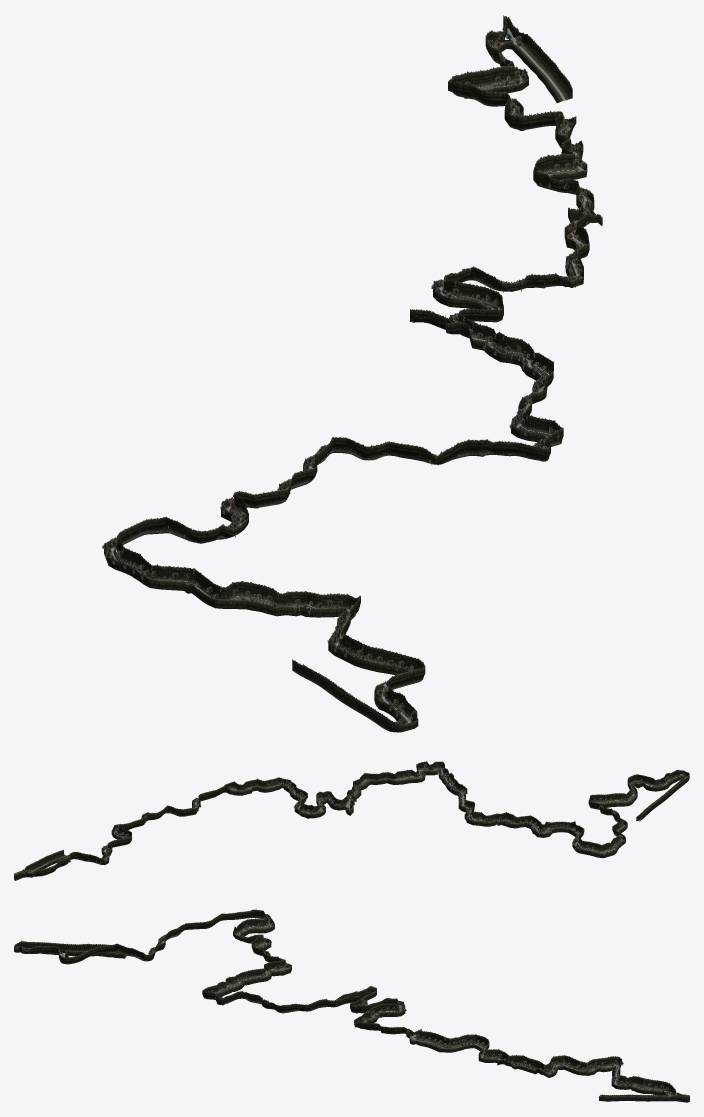
File: shomaru.glb
3 renders of one model, top to bottom at view 1: azimuth 30°, elevation 25°; view 2: azimuth 150°, elevation 25°; view 3: azimuth 270°, elevation 25°, orthographic. The views are drawn at different scales.
Parts seen in each view (by area): view 1: vis_0, vis_84, col_1, col_85, vis_172, vis_42, col_173; view 2: vis_0, vis_84, col_1, col_85, vis_172, vis_42, col_173, col_65, vis_94, vis_112; view 3: vis_84, vis_0, col_1, col_85, vis_172, col_173, vis_94.
Part boxes in pixels (left/top/right/bottom): vis_0: left=104, top=420, right=550, bottom=732; vis_84: left=410, top=15, right=602, bottom=332; col_1: left=110, top=427, right=550, bottom=732; col_85: left=415, top=28, right=601, bottom=334; vis_172: left=446, top=307, right=563, bottom=447; vis_42: left=102, top=419, right=540, bottom=716; col_173: left=449, top=315, right=563, bottom=447; vis_0: left=417, top=761, right=689, bottom=858; vis_84: left=14, top=777, right=354, bottom=880; col_1: left=433, top=765, right=689, bottom=851; col_85: left=15, top=781, right=354, bottom=880; vis_172: left=326, top=761, right=435, bottom=801; vis_42: left=420, top=768, right=676, bottom=855; col_173: left=326, top=765, right=433, bottom=802; col_65: left=448, top=779, right=627, bottom=853; vis_94: left=25, top=781, right=341, bottom=872; vis_112: left=65, top=780, right=329, bottom=863; vis_84: left=350, top=985, right=689, bottom=1102; vis_0: left=14, top=909, right=291, bottom=998; col_1: left=15, top=913, right=285, bottom=999; col_85: left=351, top=991, right=673, bottom=1096; vis_172: left=208, top=991, right=352, bottom=1009; col_173: left=212, top=995, right=352, bottom=1012; vis_94: left=354, top=999, right=669, bottom=1090.
Bounding box in the file's own units: 1720 × 284 × 2320.
Materials: 117 (117 with a texture image).
